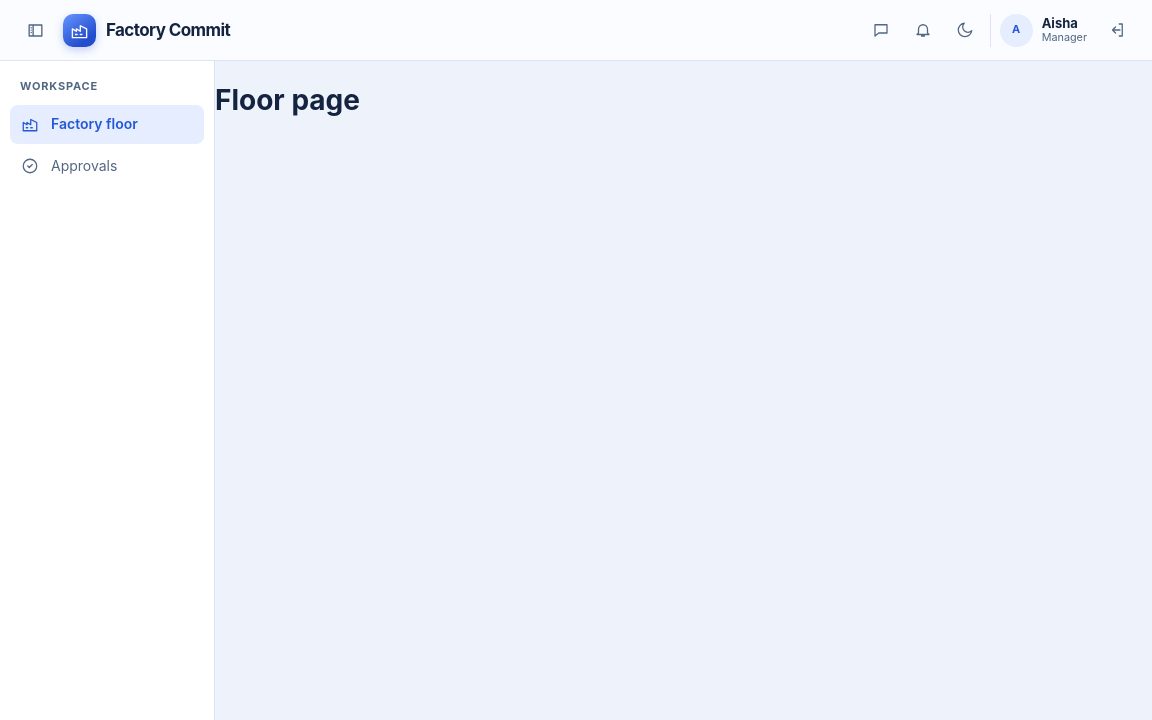
Scenario: App › keeps route icons accessible and navigable while collapsed
Click the button named "Collapse sidebar".
click(35, 30)  # box 18,13 -> 52,47
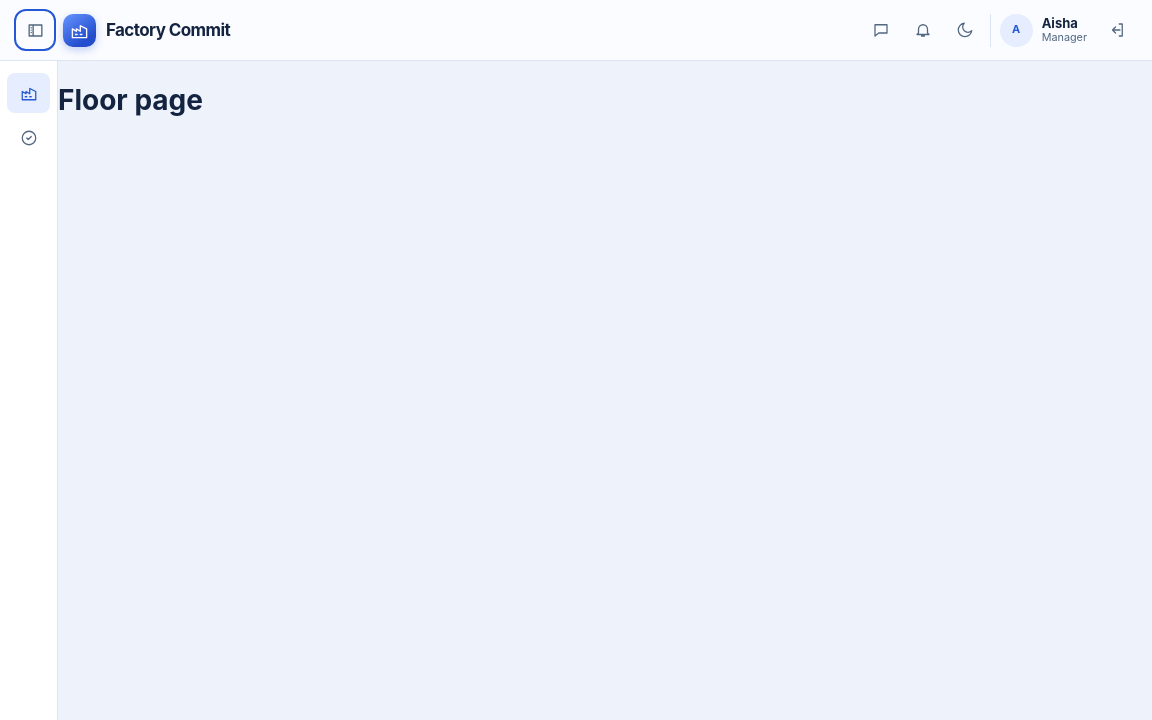
expect the link named "Approvals" has attribute data-tooltip="Approvals": met
Click the link named "Approvals".
click(28, 138)  # box 20,129 -> 38,147
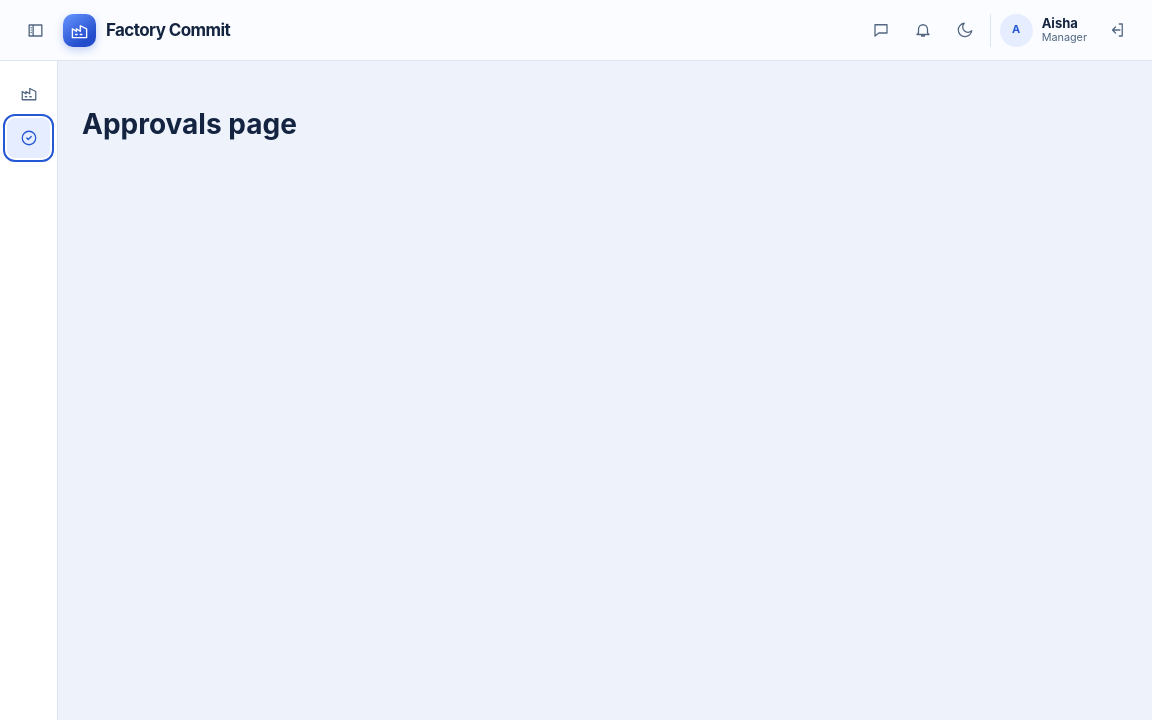
expect the heading "Approvals page" is shown: met, box 82,107 -> 297,141
